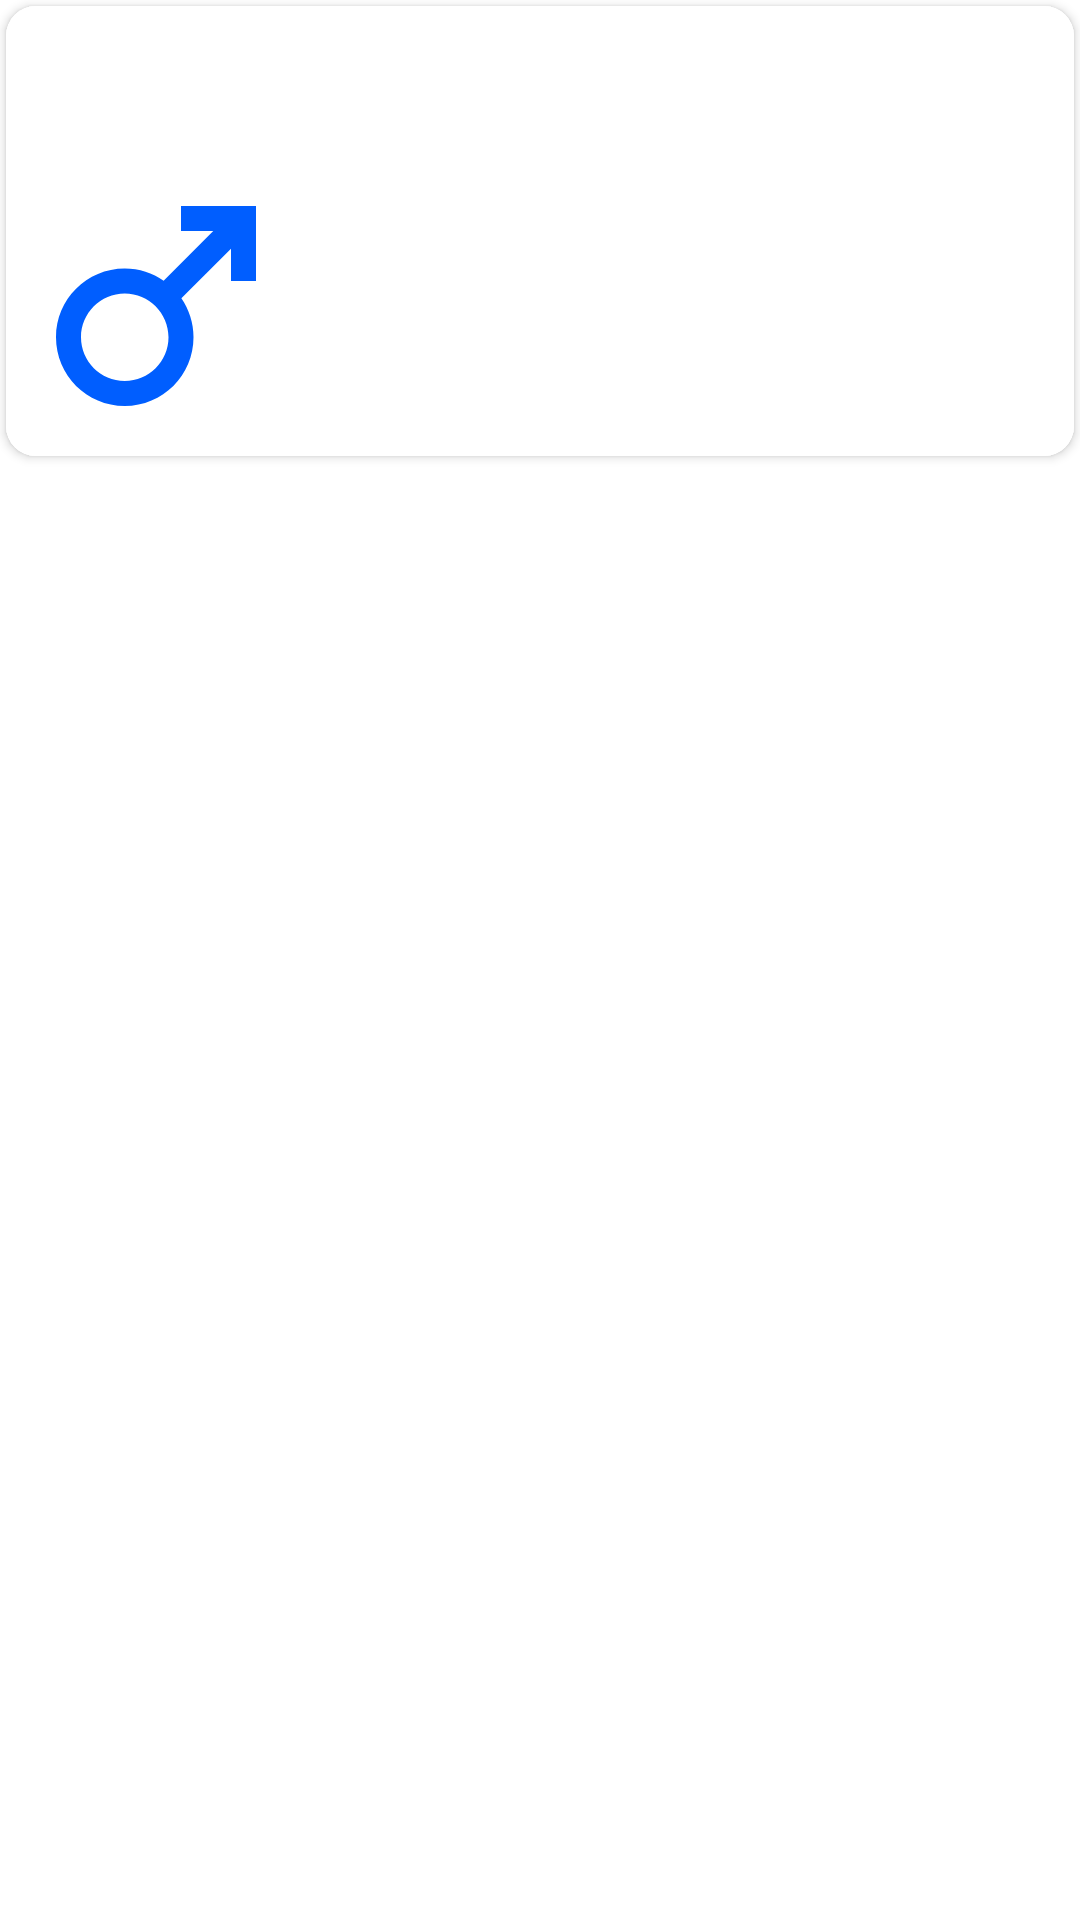

Icon click points for this 1080*1920 phone screenshot, format [x,y]:
male: [156,306]
